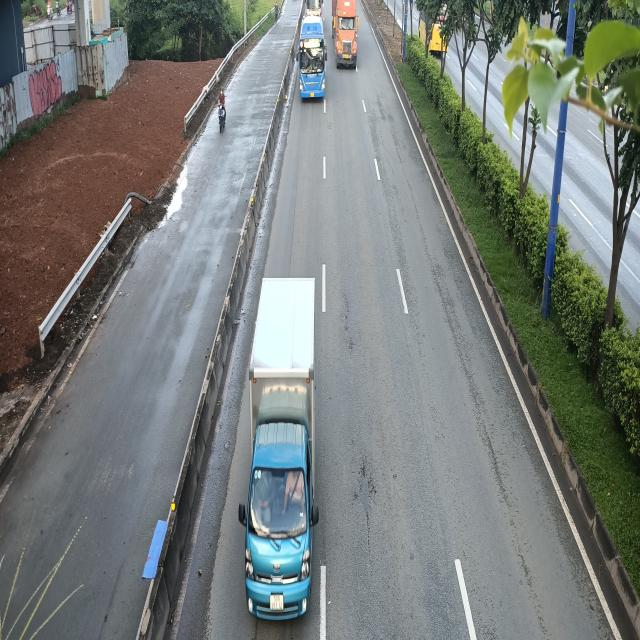coach: (296, 8, 326, 102)
container: (332, 0, 361, 68)
truck: (242, 275, 322, 627)
